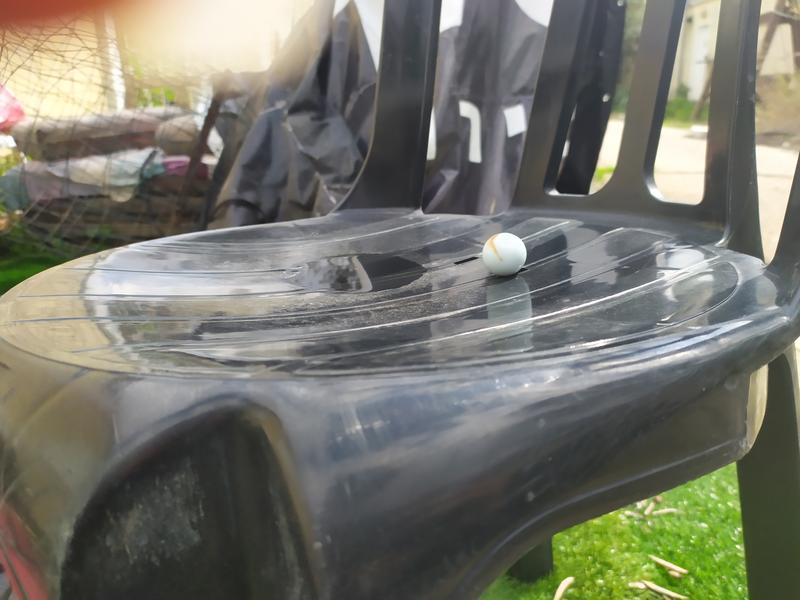Warning: (480, 231, 529, 279)
